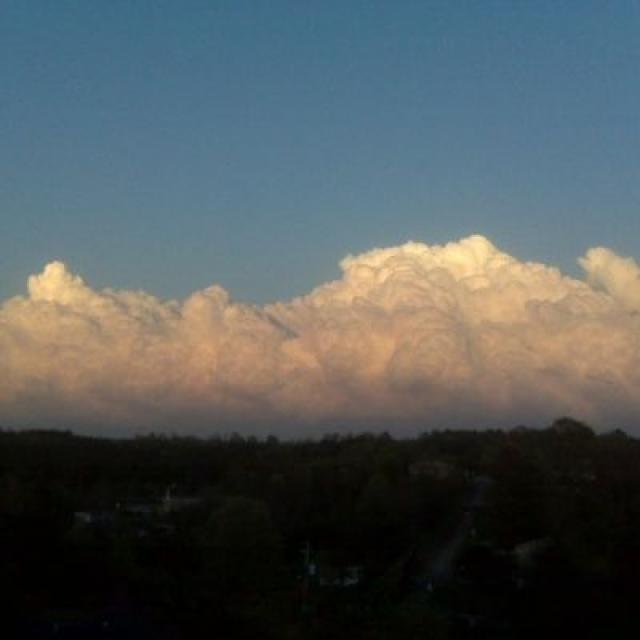Cu: (5, 170, 640, 408)
